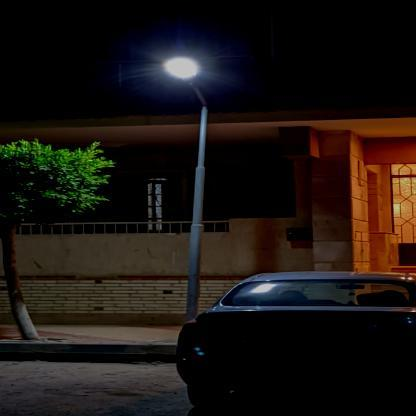light_pole: (161, 57, 210, 323)
